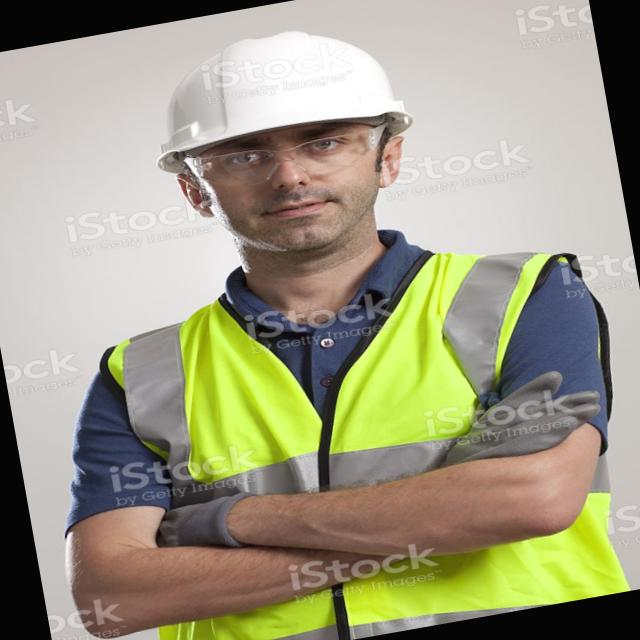goggles: (166, 116, 402, 198)
helmet: (136, 7, 421, 182)
vest: (94, 226, 634, 640)
